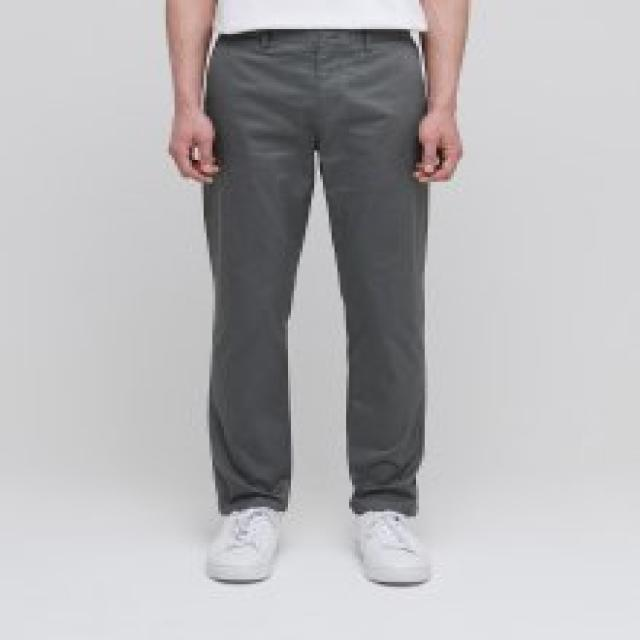long-pants: (205, 31, 429, 521)
